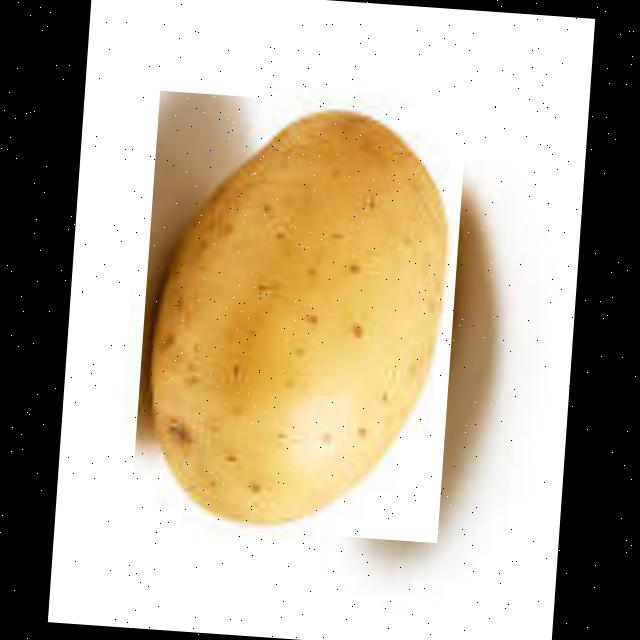Potato: (128, 90, 466, 542)
